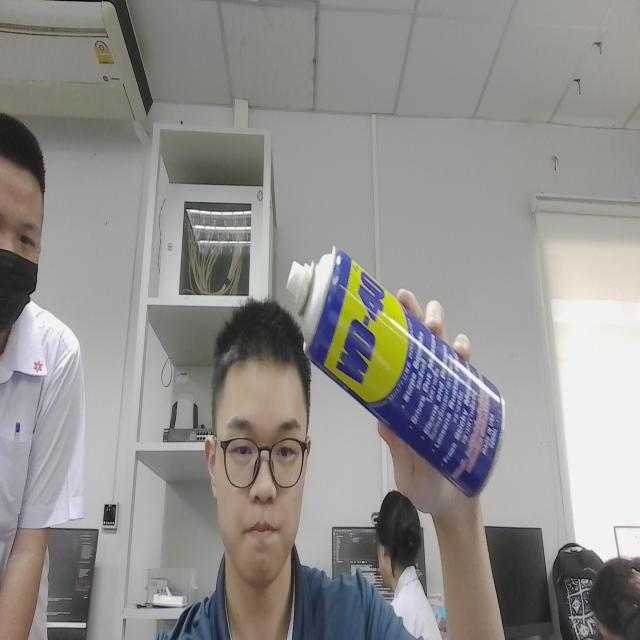wd-40: (276, 222, 511, 519)
